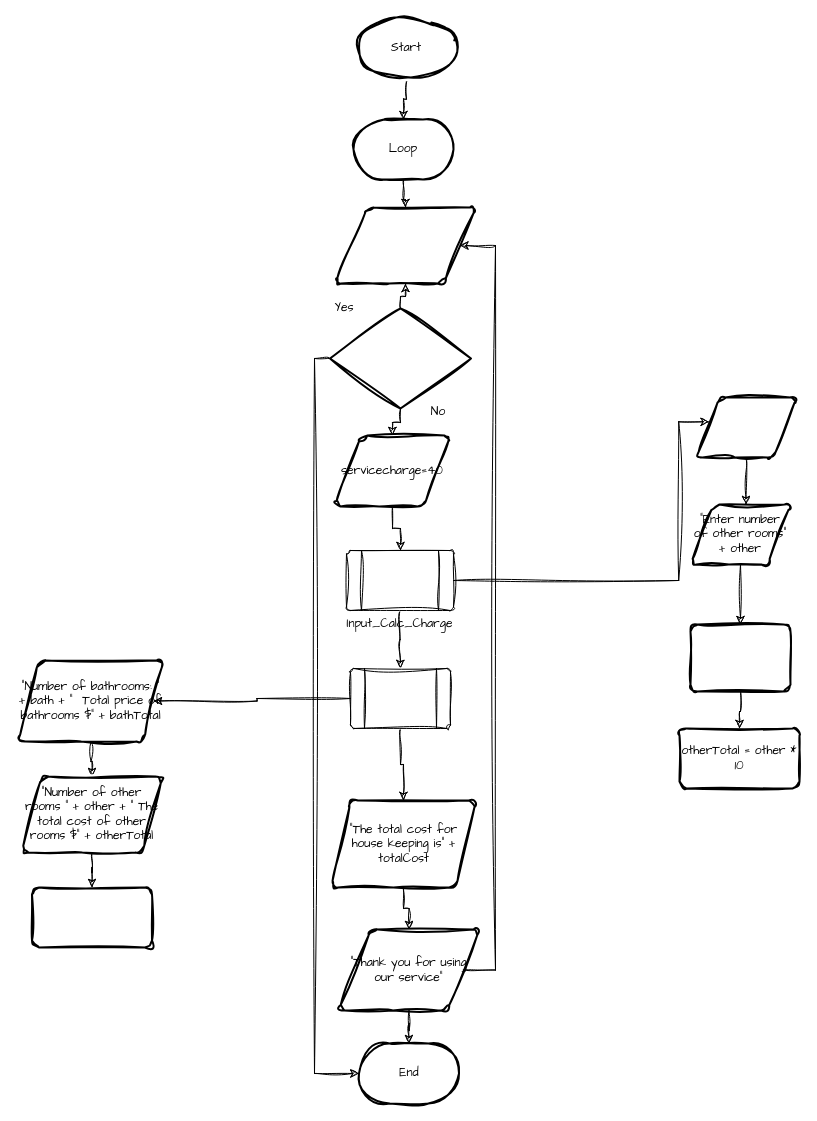
This 817x1121 diagram has some shape labels left out. The shapes that lost their labels are listed below. From the top down, each one's box as (x1, y1, x2, y2) in pixels, then its label:
(334, 206, 476, 284): "Enter Name of customer. Enter ZZZZ to end progra,m" + custName
(328, 307, 472, 409): custName = ZZZZ
(695, 396, 797, 458): "Enter the number of bathrooms" _ bath
(689, 623, 791, 692): bathTotal = bath * 15
(350, 668, 450, 728): Input_Calc_Total_Charge
(30, 886, 152, 948): totalCost = bathTotal + otherTotal + servicecharge
